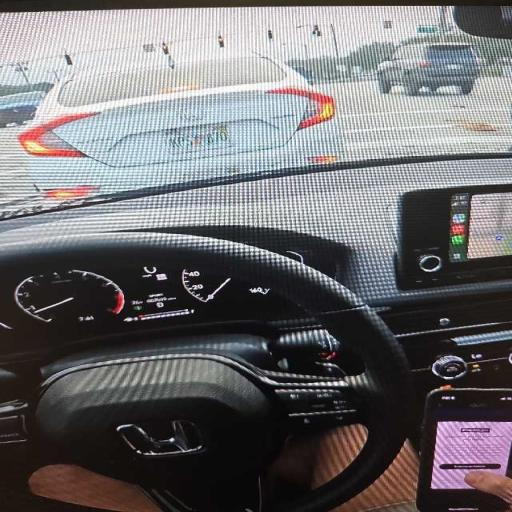car: (0, 0, 511, 511), (19, 56, 343, 193), (377, 43, 481, 95), (0, 92, 44, 127)
lane: (315, 78, 511, 160)
person: (465, 471, 511, 507)
